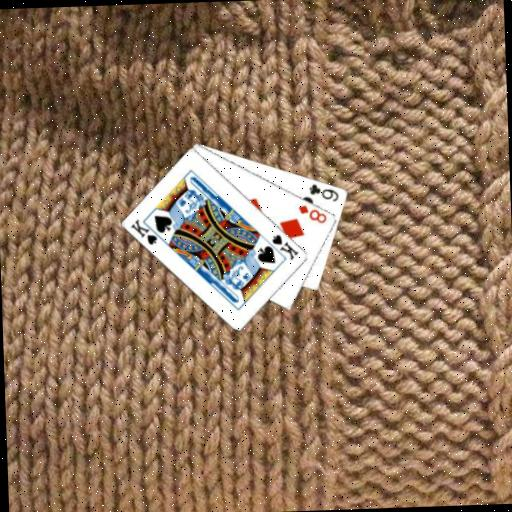6C: (306, 179, 341, 203)
8D: (295, 201, 328, 226)
KS: (127, 215, 165, 248), (268, 230, 301, 263)
